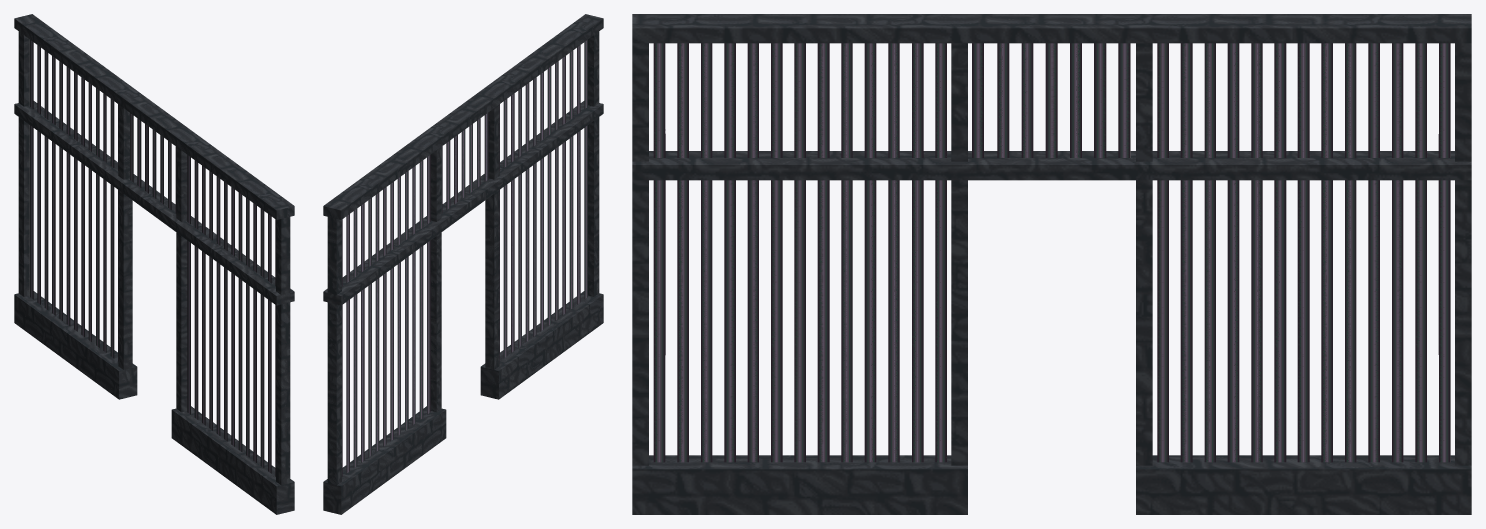
Rendered from Tuerrahmen Gitter V1.fbx.
The picture shows the model from 3 angles, left to right: view 1: azimuth 30°, elevation 25°; view 2: azimuth 150°, elevation 25°; view 3: azimuth 270°, elevation 25°; orthographic projection. The views are drawn at different scales.
Parts seen in each view (by area): view 1: Cube; view 2: Cube; view 3: Cube.
Part boxes in pixels (x1,y1,x2,y2): Cube: (14,14,294,514); Cube: (323,14,603,514); Cube: (632,14,1471,514).
Size of the model in its own units: 20 by 500 by 320.
1 material, 1 textured.
